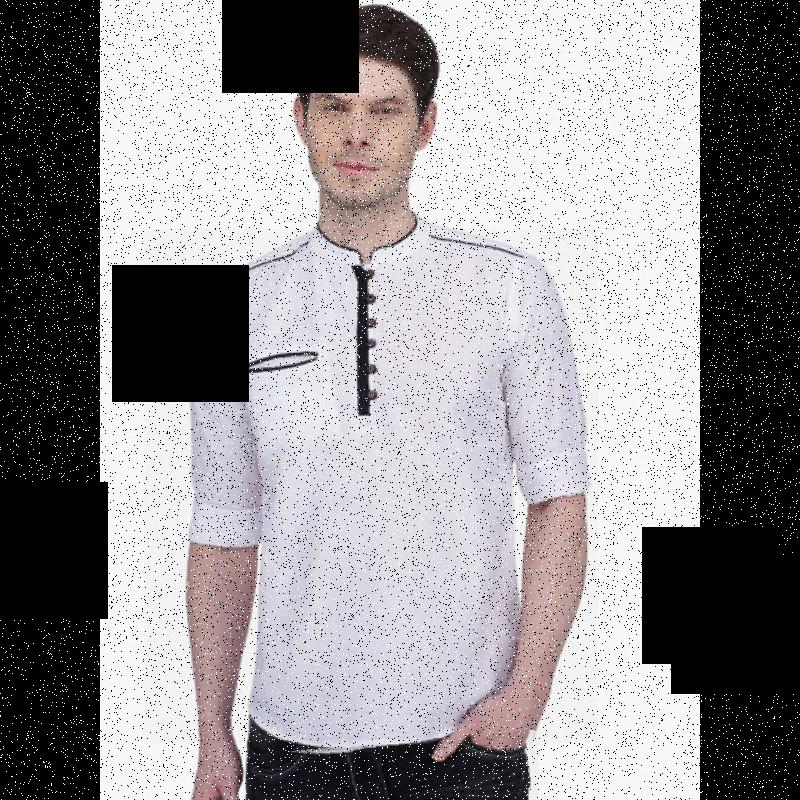Jeans: (249, 736, 539, 800)
Shirt: (144, 229, 598, 743)
